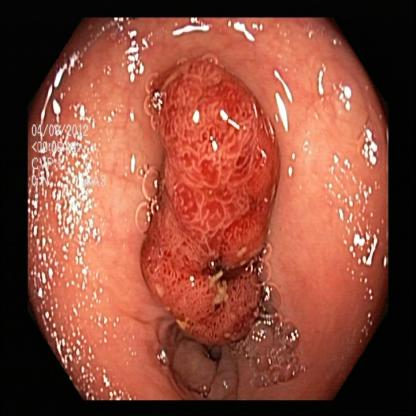Labels: (29, 116, 109, 196)
Polyps: (165, 67, 266, 330), (167, 336, 238, 400)
